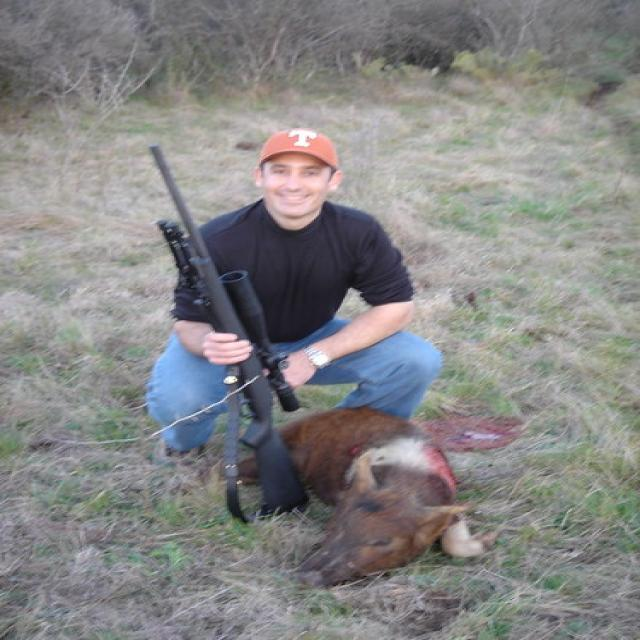boar: (215, 399, 497, 608)
